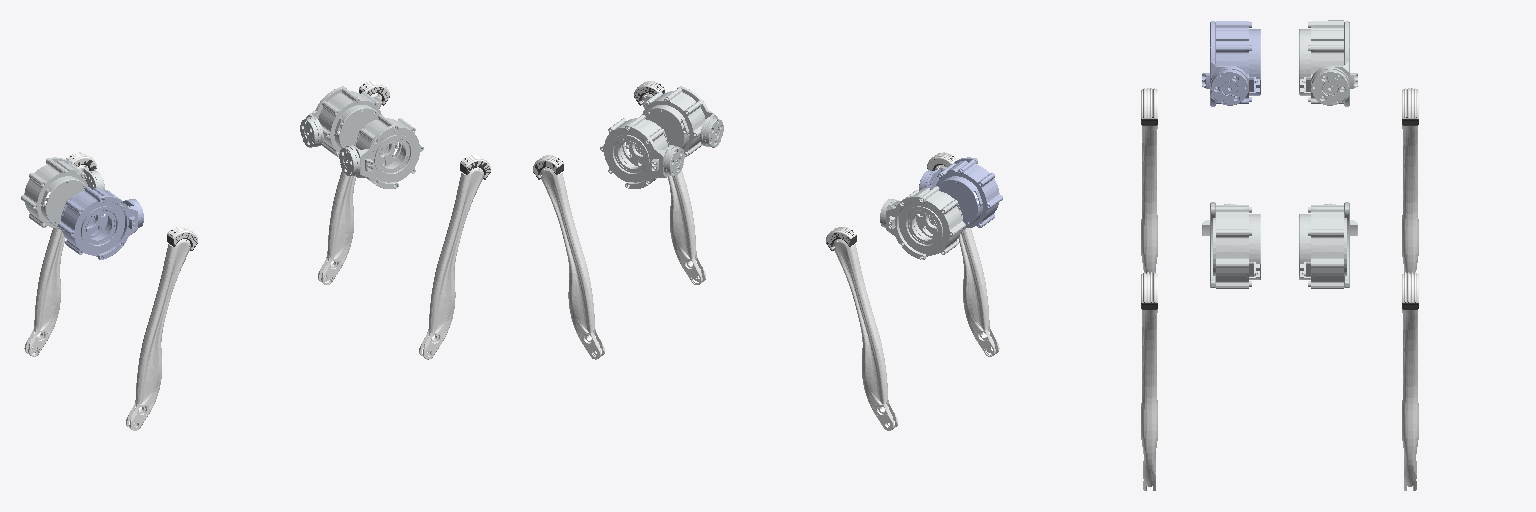
robot.urdf — leg_urdf20250417_1:
<?xml version="1.0" encoding="utf-8"?>
<!-- This URDF was automatically created by SolidWorks to URDF Exporter! Originally created by Stephen Brawner ([email redacted]) 
     Commit Version: 1.6.0-4-g7f85cfe  Build Version: 1.6.7995.38578
     For more information, please see http://wiki.ros.org/sw_urdf_exporter -->
<robot
  name="leg_urdf20250417_1">
  <link
    name="base">
    <inertial>
      <origin
        xyz="-0.0066699 -0.0036748 -0.0047946"
        rpy="0 0 0" />
      <mass
        value="5.3832" />
      <inertia
        ixx="0.013437"
        ixy="-6.9871E-06"
        ixz="-0.00020711"
        iyy="0.031665"
        iyz="-9.5328E-06"
        izz="0.039598" />
    </inertial>
    <visual>
      <origin
        xyz="0 0 0"
        rpy="0 0 0" />
      <geometry>
        <mesh
          filename="package://leg_urdf20250417_1/meshes/base.STL" />
      </geometry>
      <material
        name="">
        <color
          rgba="0.25098 0.25098 0.25098 1" />
      </material>
    </visual>
    <collision>
      <origin
        xyz="0 0 0"
        rpy="0 0 0" />
      <geometry>
        <mesh
          filename="package://leg_urdf20250417_1/meshes/base.STL" />
      </geometry>
    </collision>
  </link>
  <link
    name="LF_hip">
    <inertial>
      <origin
        xyz="0.042864 -0.00047394 -2.8926E-05"
        rpy="0 0 0" />
      <mass
        value="0.16386" />
      <inertia
        ixx="0.00012341"
        ixy="-5.2157E-06"
        ixz="-1.1555E-06"
        iyy="0.0001958"
        iyz="-9.8907E-08"
        izz="0.00010494" />
    </inertial>
    <visual>
      <origin
        xyz="0 0 0"
        rpy="0 0 0" />
      <geometry>
        <mesh
          filename="package://leg_urdf20250417_1/meshes/LF_hip.STL" />
      </geometry>
      <material
        name="">
        <color
          rgba="0.89804 0.91765 0.92941 1" />
      </material>
    </visual>
    <collision>
      <origin
        xyz="0 0 0"
        rpy="0 0 0" />
      <geometry>
        <mesh
          filename="package://leg_urdf20250417_1/meshes/LF_hip.STL" />
      </geometry>
    </collision>
  </link>
  <joint
    name="LF_HAA"
    type="revolute">
    <origin
      xyz="0.1978 0.06 -0.0073383"
      rpy="0 0 0" />
    <parent
      link="base" />
    <child
      link="LF_hip" />
    <axis
      xyz="1 0 0" />
    <limit
      lower="-1.05"
      upper="1.05"
      effort="60"
      velocity="15" />
  </joint>
  <link
    name="LF_thigh">
    <inertial>
      <origin
        xyz="0.00436683720793923 0.0220762223078676 -0.094095264106613"
        rpy="0 0 0" />
      <mass
        value="0.88264952697142" />
      <inertia
        ixx="0.00415924322538449"
        ixy="-5.34750962434055E-06"
        ixz="-9.05829574075116E-05"
        iyy="0.00457431590966923"
        iyz="3.5094545931096E-05"
        izz="0.000520630016824553" />
    </inertial>
    <visual>
      <origin
        xyz="0 0 0"
        rpy="0 0 0" />
      <geometry>
        <mesh
          filename="package://leg_urdf20250417_1/meshes/LF_thigh.STL" />
      </geometry>
      <material
        name="">
        <color
          rgba="0.898039215686275 0.917647058823529 0.929411764705882 1" />
      </material>
    </visual>
    <collision>
      <origin
        xyz="0 0 0"
        rpy="0 0 0" />
      <geometry>
        <mesh
          filename="package://leg_urdf20250417_1/meshes/LF_thigh.STL" />
      </geometry>
    </collision>
  </link>
  <joint
    name="LF_HFE"
    type="revolute">
    <origin
      xyz="0.0627 0.0624 0"
      rpy="0 0 0" />
    <parent
      link="LF_hip" />
    <child
      link="LF_thigh" />
    <axis
      xyz="0 1 0" />
    <limit
      lower="-1.57"
      upper="3.35"
      effort="60"
      velocity="15" />
  </joint>
  <link
    name="LF_calf">
    <inertial>
      <origin
        xyz="0.0353231393749997 0.000329711873662181 0.137279161740425"
        rpy="0 0 0" />
      <mass
        value="0.291228893559729" />
      <inertia
        ixx="0.00107142137463083"
        ixy="8.16218987771122E-08"
        ixz="-0.000225822383336276"
        iyy="0.0011429950874814"
        iyz="1.42384757266927E-07"
        izz="8.3967835261648E-05" />
    </inertial>
    <visual>
      <origin
        xyz="0 0 0"
        rpy="0 0 0" />
      <geometry>
        <mesh
          filename="package://leg_urdf20250417_1/meshes/LF_calf.STL" />
      </geometry>
      <material
        name="">
        <color
          rgba="1 1 1 1" />
      </material>
    </visual>
    <collision>
      <origin
        xyz="0 0 0"
        rpy="0 0 0" />
      <geometry>
        <mesh
          filename="package://leg_urdf20250417_1/meshes/LF_calf.STL" />
      </geometry>
    </collision>
  </link>
  <joint
    name="LF_KFE"
    type="revolute">
    <origin
      xyz="0.024642 0.033 -0.28146"
      rpy="0 0 0" />
    <parent
      link="LF_thigh" />
    <child
      link="LF_calf" />
    <axis
      xyz="0 1 0" />
    <limit
      lower="0"
      upper="2.2"
      effort="60"
      velocity="15" />
  </joint>
  <link
    name="LF_FOOT">
    <inertial>
      <origin
        xyz="-0.00205174704649136 5.72936612042163E-09 -0.0079948269272665"
        rpy="0 0 0" />
      <mass
        value="0.0259775757821095" />
      <inertia
        ixx="2.79592928416496E-06"
        ixy="-1.63313531925429E-12"
        ixz="1.34865618051156E-06"
        iyy="6.06492352296267E-06"
        iyz="-1.56243203041687E-12"
        izz="5.00319213757495E-06" />
    </inertial>
    <visual>
      <origin
        xyz="0 0 0"
        rpy="0 0 0" />
      <geometry>
        <mesh
          filename="package://leg_urdf20250417_1/meshes/LF_FOOT.STL" />
      </geometry>
      <material
        name="">
        <color
          rgba="0.384313725490196 0.384313725490196 0.384313725490196 1" />
      </material>
    </visual>
    <collision>
      <origin
        xyz="0 0 0"
        rpy="0 0 0" />
      <geometry>
        <mesh
          filename="package://leg_urdf20250417_1/meshes/LF_FOOT.STL" />
      </geometry>
    </collision>
  </link>
  <joint
    name="LF_foot_fixed"
    type="fixed">
    <origin
      xyz="0.0789 0.0003 0.28158"
      rpy="0 0 0" />
    <parent
      link="LF_calf" />
    <child
      link="LF_FOOT" />
    <axis
      xyz="0 0 0" />
    <limit
      lower="-2.72"
      upper="-0.84"
      effort="60"
      velocity="15" />
  </joint>
  <link
    name="LH_hip">
    <inertial>
      <origin
        xyz="-0.0433644646355627 -0.000473926080253484 2.89141840376095E-05"
        rpy="0 0 0" />
      <mass
        value="0.163855342532759" />
      <inertia
        ixx="0.000123407065872472"
        ixy="5.21572443527369E-06"
        ixz="-1.15546077566524E-06"
        iyy="0.000195800284944935"
        iyz="9.8908641921908E-08"
        izz="0.000104939607046793" />
    </inertial>
    <visual>
      <origin
        xyz="0 0 0"
        rpy="0 0 0" />
      <geometry>
        <mesh
          filename="package://leg_urdf20250417_1/meshes/LH_hip.STL" />
      </geometry>
      <material
        name="">
        <color
          rgba="0.898039215686275 0.917647058823529 0.929411764705882 1" />
      </material>
    </visual>
    <collision>
      <origin
        xyz="0 0 0"
        rpy="0 0 0" />
      <geometry>
        <mesh
          filename="package://leg_urdf20250417_1/meshes/LH_hip.STL" />
      </geometry>
    </collision>
  </link>
  <joint
    name="LH_HAA"
    type="revolute">
    <origin
      xyz="-0.1973 0.06 -0.0073383"
      rpy="0 0 0" />
    <parent
      link="base" />
    <child
      link="LH_hip" />
    <axis
      xyz="-1 0 0" />
    <limit
      lower="-1.05"
      upper="1.05"
      effort="60"
      velocity="15" />
  </joint>
  <link
    name="LH_thigh">
    <inertial>
      <origin
        xyz="0.00698096519153829 0.0650895843741195 -0.0944113598442908"
        rpy="0 0 0" />
      <mass
        value="0.878447187632765" />
      <inertia
        ixx="0.00416750965447208"
        ixy="-5.43183756066054E-06"
        ixz="-0.000180808380847781"
        iyy="0.00457417201818827"
        iyz="3.50847647011872E-05"
        izz="0.000512190640093904" />
    </inertial>
    <visual>
      <origin
        xyz="0 0 0"
        rpy="0 0 0" />
      <geometry>
        <mesh
          filename="package://leg_urdf20250417_1/meshes/LH_thigh.STL" />
      </geometry>
      <material
        name="">
        <color
          rgba="0.898039215686275 0.917647058823529 0.929411764705882 1" />
      </material>
    </visual>
    <collision>
      <origin
        xyz="0 0 0"
        rpy="0 0 0" />
      <geometry>
        <mesh
          filename="package://leg_urdf20250417_1/meshes/LH_thigh.STL" />
      </geometry>
    </collision>
  </link>
  <joint
    name="LH_HFE"
    type="revolute">
    <origin
      xyz="-0.0632 0.0195 0"
      rpy="0 0 0" />
    <parent
      link="LH_hip" />
    <child
      link="LH_thigh" />
    <axis
      xyz="0 1 0" />
    <limit
      lower="-1.57"
      upper="3.35"
      effort="60"
      velocity="15" />
  </joint>
  <link
    name="LH_calf">
    <inertial>
      <origin
        xyz="0.0353231333049272 0.000329711201311145 0.137279155556145"
        rpy="0 0 0" />
      <mass
        value="0.291228914633656" />
      <inertia
        ixx="0.00107142137803892"
        ixy="8.16206824433646E-08"
        ixz="-0.000225822385994408"
        iyy="0.00114299509724133"
        iyz="1.42384066204264E-07"
        izz="8.39678418973689E-05" />
    </inertial>
    <visual>
      <origin
        xyz="0 0 0"
        rpy="0 0 0" />
      <geometry>
        <mesh
          filename="package://leg_urdf20250417_1/meshes/LH_calf.STL" />
      </geometry>
      <material
        name="">
        <color
          rgba="1 1 1 1" />
      </material>
    </visual>
    <collision>
      <origin
        xyz="0 0 0"
        rpy="0 0 0" />
      <geometry>
        <mesh
          filename="package://leg_urdf20250417_1/meshes/LH_calf.STL" />
      </geometry>
    </collision>
  </link>
  <joint
    name="LH_KFE"
    type="revolute">
    <origin
      xyz="0.025437 0.0759 -0.28147"
      rpy="0 0 0" />
    <parent
      link="LH_thigh" />
    <child
      link="LH_calf" />
    <axis
      xyz="0 1 0" />
    <limit
      lower="0"
      upper="2.2"
      effort="60"
      velocity="15" />
  </joint>
  <link
    name="LH_FOOT">
    <inertial>
      <origin
        xyz="-0.00205174704649144 5.72936628695508E-09 -0.00799482692726639"
        rpy="0 0 0" />
      <mass
        value="0.0259775757821096" />
      <inertia
        ixx="2.79592928416496E-06"
        ixy="-1.6331353904199E-12"
        ixz="1.34865618051155E-06"
        iyy="6.06492352296266E-06"
        iyz="-1.56243197839901E-12"
        izz="5.00319213757494E-06" />
    </inertial>
    <visual>
      <origin
        xyz="0 0 0"
        rpy="0 0 0" />
      <geometry>
        <mesh
          filename="package://leg_urdf20250417_1/meshes/LH_FOOT.STL" />
      </geometry>
      <material
        name="">
        <color
          rgba="0.384313725490196 0.384313725490196 0.384313725490196 1" />
      </material>
    </visual>
    <collision>
      <origin
        xyz="0 0 0"
        rpy="0 0 0" />
      <geometry>
        <mesh
          filename="package://leg_urdf20250417_1/meshes/LH_FOOT.STL" />
      </geometry>
    </collision>
  </link>
  <joint
    name="LH_foot_fixed"
    type="fixed">
    <origin
      xyz="0.0789 0.0003 0.28158"
      rpy="0 0 0" />
    <parent
      link="LH_calf" />
    <child
      link="LH_FOOT" />
    <axis
      xyz="0 0 0" />
    <limit
      lower="-2.72"
      upper="-0.84"
      effort="60"
      velocity="15" />
  </joint>
  <link
    name="RF_hip">
    <inertial>
      <origin
        xyz="0.0433644648693298 0.000473947962982287 -2.8921744416377E-05"
        rpy="0 0 0" />
      <mass
        value="0.163855386935685" />
      <inertia
        ixx="0.000123407074924426"
        ixy="5.21571674467526E-06"
        ixz="-1.15545094341875E-06"
        iyy="0.000195800300641504"
        iyz="9.89103694234539E-08"
        izz="0.000104939625038023" />
    </inertial>
    <visual>
      <origin
        xyz="0 0 0"
        rpy="0 0 0" />
      <geometry>
        <mesh
          filename="package://leg_urdf20250417_1/meshes/RF_hip.STL" />
      </geometry>
      <material
        name="">
        <color
          rgba="0.898039215686275 0.917647058823529 0.929411764705882 1" />
      </material>
    </visual>
    <collision>
      <origin
        xyz="0 0 0"
        rpy="0 0 0" />
      <geometry>
        <mesh
          filename="package://leg_urdf20250417_1/meshes/RF_hip.STL" />
      </geometry>
    </collision>
  </link>
  <joint
    name="RF_HAA"
    type="revolute">
    <origin
      xyz="0.1973 -0.06 -0.0073383"
      rpy="0 0 0" />
    <parent
      link="base" />
    <child
      link="RF_hip" />
    <axis
      xyz="1 0 0" />
    <limit
      lower="-1.05"
      upper="1.05"
      effort="60"
      velocity="15" />
  </joint>
  <link
    name="RF_thigh">
    <inertial>
      <origin
        xyz="0.00450532741981957 -0.0651233509730109 -0.0943309028284361"
        rpy="0 0 0" />
      <mass
        value="0.880353408720974" />
      <inertia
        ixx="0.00415842883045723"
        ixy="5.34875598523861E-06"
        ixz="-9.05011725768454E-05"
        iyy="0.0045734761437616"
        iyz="-3.50630935382064E-05"
        izz="0.000520561613293803" />
    </inertial>
    <visual>
      <origin
        xyz="0 0 0"
        rpy="0 0 0" />
      <geometry>
        <mesh
          filename="package://leg_urdf20250417_1/meshes/RF_thigh.STL" />
      </geometry>
      <material
        name="">
        <color
          rgba="0.898039215686275 0.917647058823529 0.929411764705882 1" />
      </material>
    </visual>
    <collision>
      <origin
        xyz="0 0 0"
        rpy="0 0 0" />
      <geometry>
        <mesh
          filename="package://leg_urdf20250417_1/meshes/RF_thigh.STL" />
      </geometry>
    </collision>
  </link>
  <joint
    name="RF_HFE"
    type="revolute">
    <origin
      xyz="0.0632 -0.0195 0"
      rpy="0 0 0" />
    <parent
      link="RF_hip" />
    <child
      link="RF_thigh" />
    <axis
      xyz="0 -1 0" />
    <limit
      lower="-3.35"
      upper="1.57"
      effort="60"
      velocity="15" />
  </joint>
  <link
    name="RF_calf">
    <inertial>
      <origin
        xyz="0.0353226630049198 -0.000330081314130204 0.137276291361542"
        rpy="0 0 0" />
      <mass
        value="0.291237111817664" />
      <inertia
        ixx="0.00107148301804938"
        ixy="-8.25716094186912E-08"
        ixz="-0.000225830862552133"
        iyy="0.00114305842409935"
        iyz="-1.42952371989529E-07"
        izz="8.39698788065223E-05" />
    </inertial>
    <visual>
      <origin
        xyz="0 0 0"
        rpy="0 0 0" />
      <geometry>
        <mesh
          filename="package://leg_urdf20250417_1/meshes/RF_calf.STL" />
      </geometry>
      <material
        name="">
        <color
          rgba="1 1 1 1" />
      </material>
    </visual>
    <collision>
      <origin
        xyz="0 0 0"
        rpy="0 0 0" />
      <geometry>
        <mesh
          filename="package://leg_urdf20250417_1/meshes/RF_calf.STL" />
      </geometry>
    </collision>
  </link>
  <joint
    name="RF_KFE"
    type="revolute">
    <origin
      xyz="0.024642 -0.0759 -0.28146"
      rpy="0 0 0" />
    <parent
      link="RF_thigh" />
    <child
      link="RF_calf" />
    <axis
      xyz="0 -1 0" />
    <limit
      lower="-2.2"
      upper="0"
      effort="60"
      velocity="15" />
  </joint>
  <link
    name="RF_FOOT">
    <inertial>
      <origin
        xyz="-0.00205181667049559 2.37805291014581E-08 -0.00799478854830682"
        rpy="0 0 0" />
      <mass
        value="0.0259777190681024" />
      <inertia
        ixx="2.79593674615042E-06"
        ixy="-4.46950623717648E-12"
        ixz="1.34866647099014E-06"
        iyy="6.06496341868077E-06"
        iyz="-4.02748106747732E-12"
        izz="5.00322920227979E-06" />
    </inertial>
    <visual>
      <origin
        xyz="0 0 0"
        rpy="0 0 0" />
      <geometry>
        <mesh
          filename="package://leg_urdf20250417_1/meshes/RF_FOOT.STL" />
      </geometry>
      <material
        name="">
        <color
          rgba="0.384313725490196 0.384313725490196 0.384313725490196 1" />
      </material>
    </visual>
    <collision>
      <origin
        xyz="0 0 0"
        rpy="0 0 0" />
      <geometry>
        <mesh
          filename="package://leg_urdf20250417_1/meshes/RF_FOOT.STL" />
      </geometry>
    </collision>
  </link>
  <joint
    name="RF_foot_fixed"
    type="fixed">
    <origin
      xyz="0.0789 -0.0003 0.28158"
      rpy="0 0 0" />
    <parent
      link="RF_calf" />
    <child
      link="RF_FOOT" />
    <axis
      xyz="0 0 0" />
  </joint>
  <link
    name="RH_hip">
    <inertial>
      <origin
        xyz="-0.0249543538828536 0.000473931035222447 2.89098388941422E-05"
        rpy="0 0 0" />
      <mass
        value="0.163855386935684" />
      <inertia
        ixx="0.000123407074916225"
        ixy="-5.21572449374408E-06"
        ixz="-1.15545638126958E-06"
        iyy="0.000195800305834429"
        iyz="-9.89121708491203E-08"
        izz="0.000104939619828281" />
    </inertial>
    <visual>
      <origin
        xyz="0 0 0"
        rpy="0 0 0" />
      <geometry>
        <mesh
          filename="package://leg_urdf20250417_1/meshes/RH_hip.STL" />
      </geometry>
      <material
        name="">
        <color
          rgba="0.792156862745098 0.819607843137255 0.933333333333333 1" />
      </material>
    </visual>
    <collision>
      <origin
        xyz="0 0 0"
        rpy="0 0 0" />
      <geometry>
        <mesh
          filename="package://leg_urdf20250417_1/meshes/RH_hip.STL" />
      </geometry>
    </collision>
  </link>
  <joint
    name="RH_HAA"
    type="revolute">
    <origin
      xyz="-0.21571 -0.06 -0.0073383"
      rpy="0 0 0" />
    <parent
      link="base" />
    <child
      link="RH_hip" />
    <axis
      xyz="-1 0 0" />
    <limit
      lower="-1.05"
      upper="1.05"
      effort="60"
      velocity="15" />
  </joint>
  <link
    name="RH_thigh">
    <inertial>
      <origin
        xyz="0.00710534632870674 -0.0466324522810538 -0.0962519270351891"
        rpy="0 0 0" />
      <mass
        value="0.882603587739274" />
      <inertia
        ixx="0.00416688393002433"
        ixy="5.43276009424337E-06"
        ixz="-0.000180728703304211"
        iyy="0.00457356125280747"
        iyz="-3.50534981577596E-05"
        izz="0.000512221191717673" />
    </inertial>
    <visual>
      <origin
        xyz="0 0 0"
        rpy="0 0 0" />
      <geometry>
        <mesh
          filename="package://leg_urdf20250417_1/meshes/RH_thigh.STL" />
      </geometry>
      <material
        name="">
        <color
          rgba="0.898039215686275 0.917647058823529 0.929411764705882 1" />
      </material>
    </visual>
    <collision>
      <origin
        xyz="0 0 0"
        rpy="0 0 0" />
      <geometry>
        <mesh
          filename="package://leg_urdf20250417_1/meshes/RH_thigh.STL" />
      </geometry>
    </collision>
  </link>
  <joint
    name="RH_HFE"
    type="revolute">
    <origin
      xyz="-0.04479 -0.037843 0.0022486"
      rpy="0 0 0" />
    <parent
      link="RH_hip" />
    <child
      link="RH_thigh" />
    <axis
      xyz="0 -1 0" />
    <limit
      lower="-3.35"
      upper="1.57"
      effort="60"
      velocity="15" />
  </joint>
  <link
    name="RH_calf">
    <inertial>
      <origin
        xyz="0.0353226615807363 -0.000330086244457906 0.137276295276581"
        rpy="0 0 0" />
      <mass
        value="0.291237106817581" />
      <inertia
        ixx="0.00107148305889599"
        ixy="-8.25724052426126E-08"
        ixz="-0.000225830868100513"
        iyy="0.0011430584628429"
        iyz="-1.42954970137402E-07"
        izz="8.39698769396023E-05" />
    </inertial>
    <visual>
      <origin
        xyz="0 0 0"
        rpy="0 0 0" />
      <geometry>
        <mesh
          filename="package://leg_urdf20250417_1/meshes/RH_calf.STL" />
      </geometry>
      <material
        name="">
        <color
          rgba="1 1 1 1" />
      </material>
    </visual>
    <collision>
      <origin
        xyz="0 0 0"
        rpy="0 0 0" />
      <geometry>
        <mesh
          filename="package://leg_urdf20250417_1/meshes/RH_calf.STL" />
      </geometry>
    </collision>
  </link>
  <joint
    name="RH_KFE"
    type="revolute">
    <origin
      xyz="0.025437 -0.057557 -0.28372"
      rpy="0 0 0" />
    <parent
      link="RH_thigh" />
    <child
      link="RH_calf" />
    <axis
      xyz="0 -1 0" />
    <limit
      lower="-2.2"
      upper="0"
      effort="60"
      velocity="15" />
  </joint>
  <link
    name="RH_FOOT">
    <inertial>
      <origin
        xyz="-0.00205181667049559 2.37805288516579E-08 -0.00799478854830671"
        rpy="0 0 0" />
      <mass
        value="0.025977719068102" />
      <inertia
        ixx="2.79593674615039E-06"
        ixy="-4.46950620699933E-12"
        ixz="1.34866647099013E-06"
        iyy="6.06496341868069E-06"
        iyz="-4.02748110374564E-12"
        izz="5.00322920227976E-06" />
    </inertial>
    <visual>
      <origin
        xyz="0 0 0"
        rpy="0 0 0" />
      <geometry>
        <mesh
          filename="package://leg_urdf20250417_1/meshes/RH_FOOT.STL" />
      </geometry>
      <material
        name="">
        <color
          rgba="0.384313725490196 0.384313725490196 0.384313725490196 1" />
      </material>
    </visual>
    <collision>
      <origin
        xyz="0 0 0"
        rpy="0 0 0" />
      <geometry>
        <mesh
          filename="package://leg_urdf20250417_1/meshes/RH_FOOT.STL" />
      </geometry>
    </collision>
  </link>
  <joint
    name="RH_foot_fixed"
    type="fixed">
    <origin
      xyz="0.0789 -0.00030001 0.28158"
      rpy="0 0 0" />
    <parent
      link="RH_calf" />
    <child
      link="RH_FOOT" />
    <axis
      xyz="0 0 0" />
  </joint>
  <link
    name="base_imu">
    <inertial>
      <origin
        xyz="0 0 0"
        rpy="0 0 0" />
      <mass
        value="0" />
      <inertia
        ixx="0"
        ixy="0"
        ixz="0"
        iyy="0"
        iyz="0"
        izz="0" />
    </inertial>
    <visual>
      <origin
        xyz="0 0 0"
        rpy="0 0 0" />
      <geometry>
        <mesh
          filename="package://leg_urdf20250417_1/meshes/base_imu.STL" />
      </geometry>
      <material
        name="">
        <color
          rgba="1 1 1 1" />
      </material>
    </visual>
    <collision>
      <origin
        xyz="0 0 0"
        rpy="0 0 0" />
      <geometry>
        <mesh
          filename="package://leg_urdf20250417_1/meshes/base_imu.STL" />
      </geometry>
    </collision>
  </link>
  <joint
    name="base_imu_joint"
    type="fixed">
    <origin
      xyz="0.14371 0 -0.058338"
      rpy="0 0 0" />
    <parent
      link="base" />
    <child
      link="base_imu" />
    <axis
      xyz="0 0 0" />
  </joint>
</robot>

--- Facts derived from the render (not from the file) ---
Views: 3 orthographic renders of the robot side by side, from view 1: azimuth 30°, elevation 25°; view 2: azimuth 150°, elevation 25°; view 3: azimuth 270°, elevation 25°.
Model leg_urdf20250417_1 with 18 links and 17 joints (12 revolute, 5 fixed), rooted at base, posed every joint at zero.
Visible links, largest first — view 1: RH_hip, RF_hip, RH_calf, RF_calf, LF_hip, LH_hip, LH_calf, LF_calf; view 2: LH_hip, LF_hip, LF_calf, LH_calf, RF_hip, RH_hip, RH_calf, RF_calf; view 3: LF_hip, RF_hip, LH_hip, RH_hip, LF_calf, RF_calf, LH_calf, RH_calf.
Link boxes in pixels (x1=…): RH_hip: x1=58, y1=186, x2=143, y2=259; RF_hip: x1=339, y1=115, x2=423, y2=188; RH_calf: x1=126, y1=227, x2=197, y2=430; RF_calf: x1=419, y1=155, x2=490, y2=359; LF_hip: x1=300, y1=86, x2=381, y2=156; LH_hip: x1=21, y1=157, x2=104, y2=230; LH_calf: x1=24, y1=152, x2=96, y2=356; LF_calf: x1=318, y1=81, x2=389, y2=284; LH_hip: x1=880, y1=186, x2=965, y2=259; LF_hip: x1=600, y1=115, x2=684, y2=188; LF_calf: x1=533, y1=155, x2=604, y2=359; LH_calf: x1=826, y1=227, x2=897, y2=430; RF_hip: x1=642, y1=86, x2=723, y2=156; RH_hip: x1=919, y1=157, x2=1002, y2=230; RH_calf: x1=927, y1=152, x2=999, y2=356; RF_calf: x1=634, y1=81, x2=705, y2=284; LF_hip: x1=1299, y1=202, x2=1357, y2=288; RF_hip: x1=1202, y1=202, x2=1260, y2=288; LH_hip: x1=1299, y1=20, x2=1357, y2=106; RH_hip: x1=1202, y1=21, x2=1260, y2=106; LF_calf: x1=1402, y1=272, x2=1418, y2=490; RF_calf: x1=1141, y1=272, x2=1157, y2=490; LH_calf: x1=1402, y1=88, x2=1418, y2=273; RH_calf: x1=1141, y1=88, x2=1157, y2=273.
Bounding box of the posed robot: 0.6975 × 0.3324 × 0.3665 m (x, y, z).
12 mesh visuals loaded from 18 distinct referenced files (12 binary STL); not drawn: 6 (reference not matched to a file when rendering).
